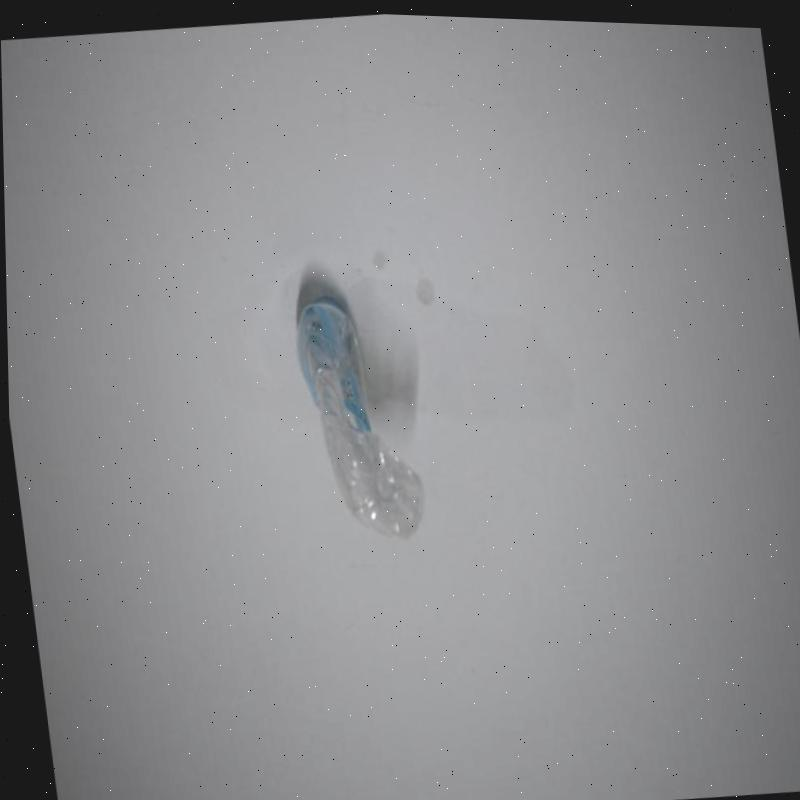botella: (288, 283, 428, 541)
